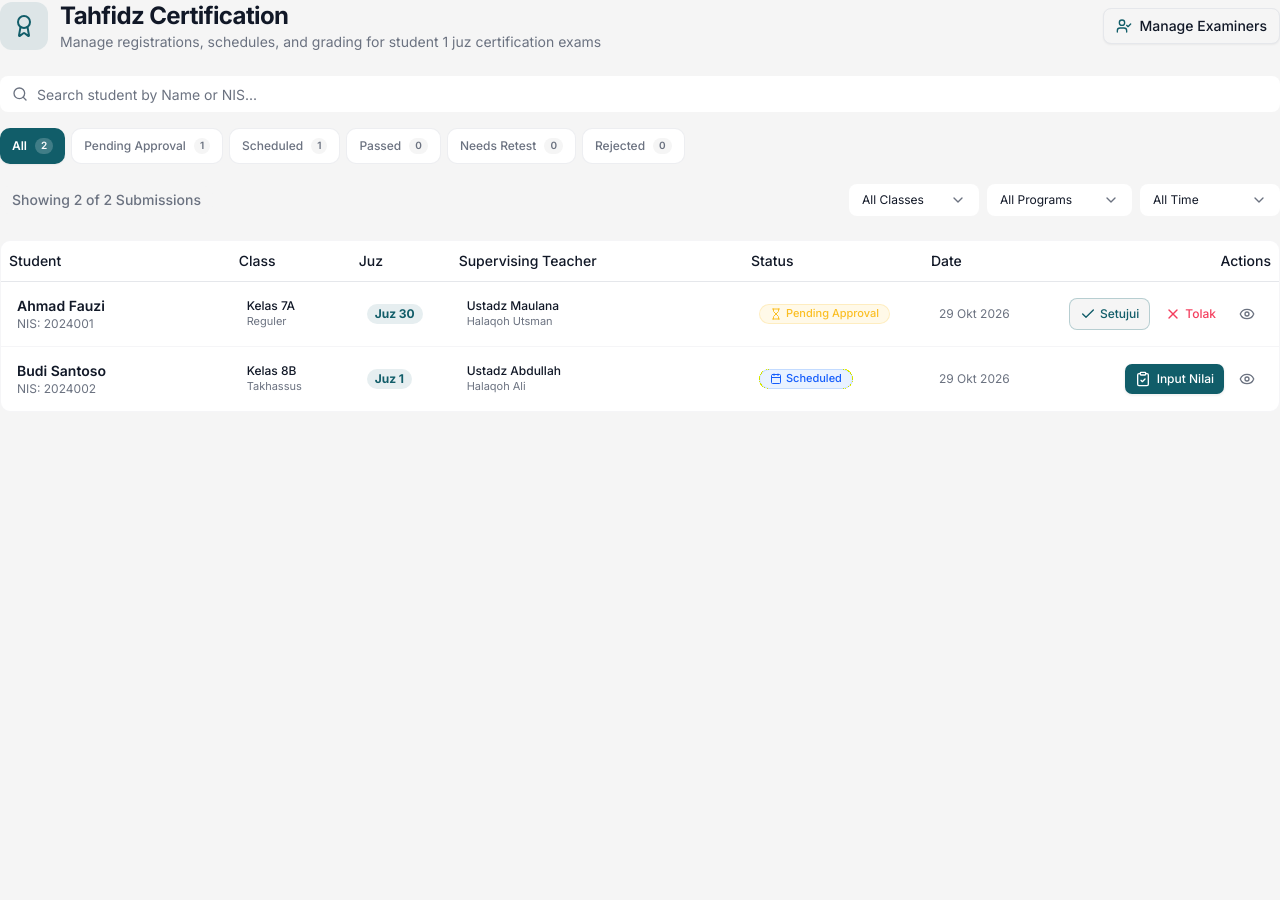
Scenario: SertifikasiTahfidzPage Integration Test › should open reject dialog when clicking Tolak on pending item
Click the button with aria-label "Tolak pengajuan Ahmad Fauzi" at point(1191, 314), box left=1156, top=298, right=1225, bottom=330
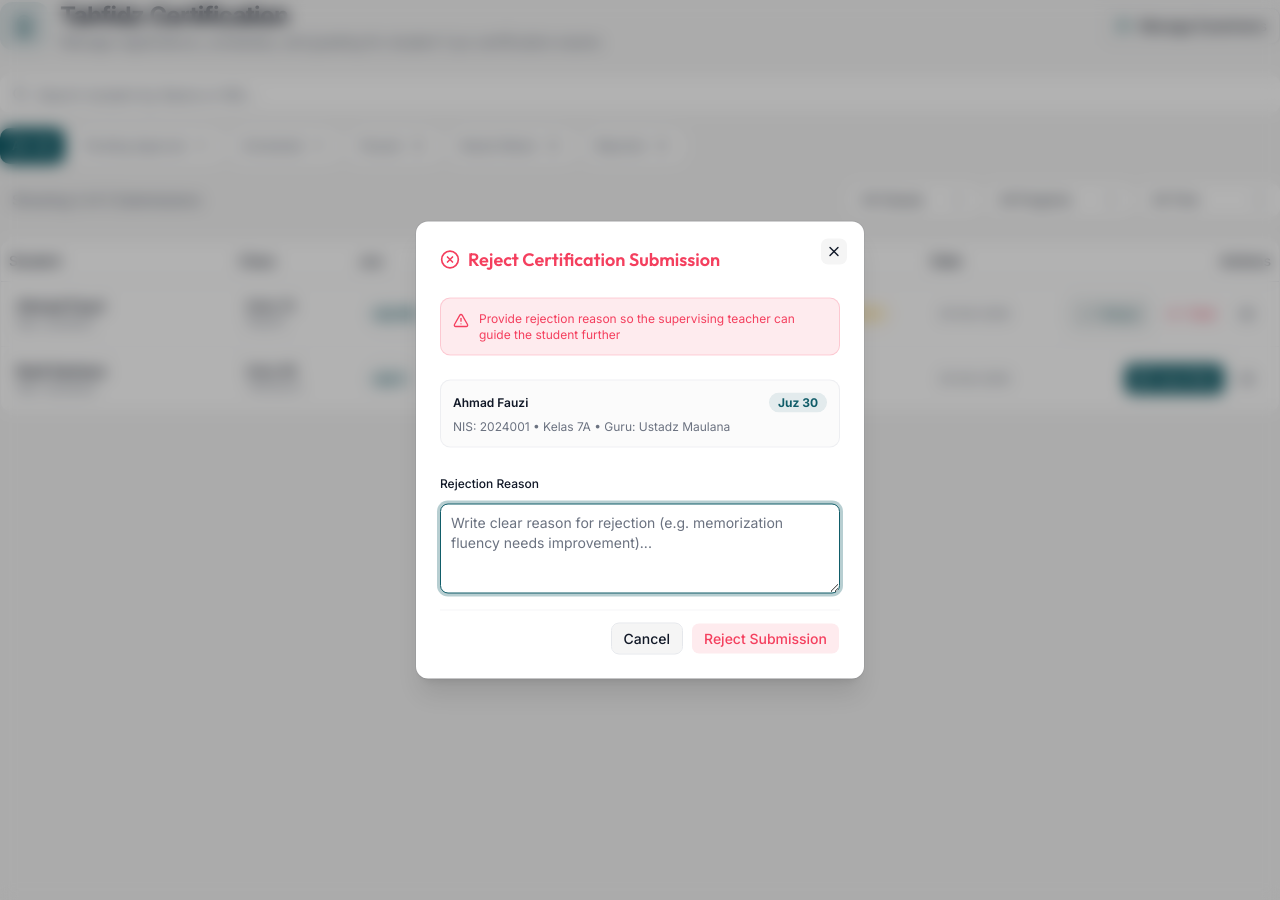
expect the heading "Reject Certification Submission" is shown: met, box left=440, top=248, right=720, bottom=270
